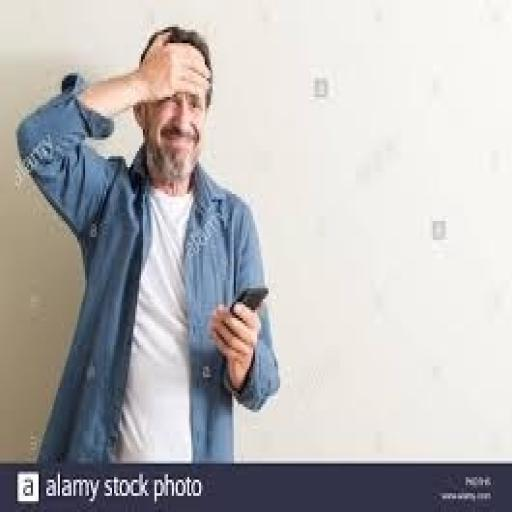texting: (14, 22, 282, 464)
